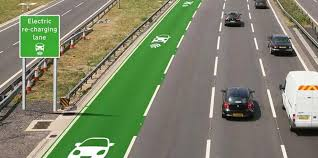car: (220, 85, 256, 119), (264, 33, 295, 56)
